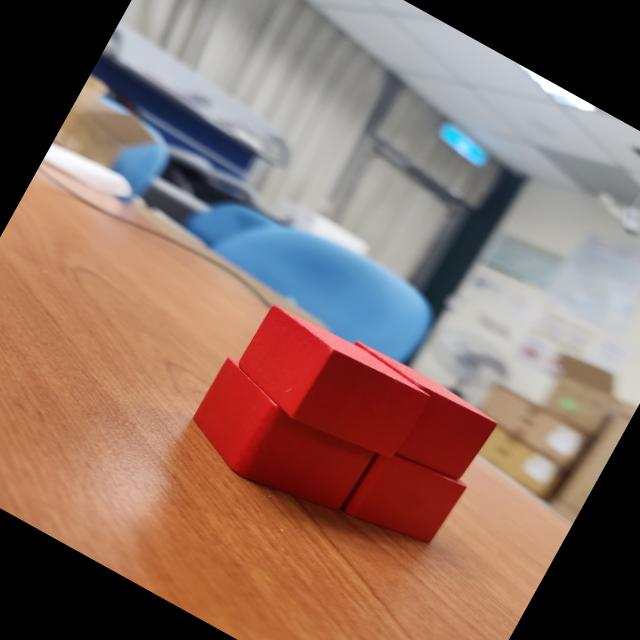red: (178, 354, 386, 532), (226, 298, 436, 474), (318, 339, 502, 491), (340, 435, 470, 560)
